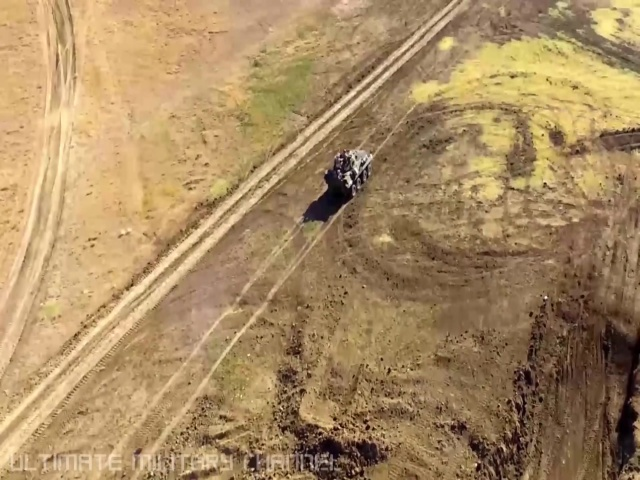vehicle: (324, 148, 374, 201)
